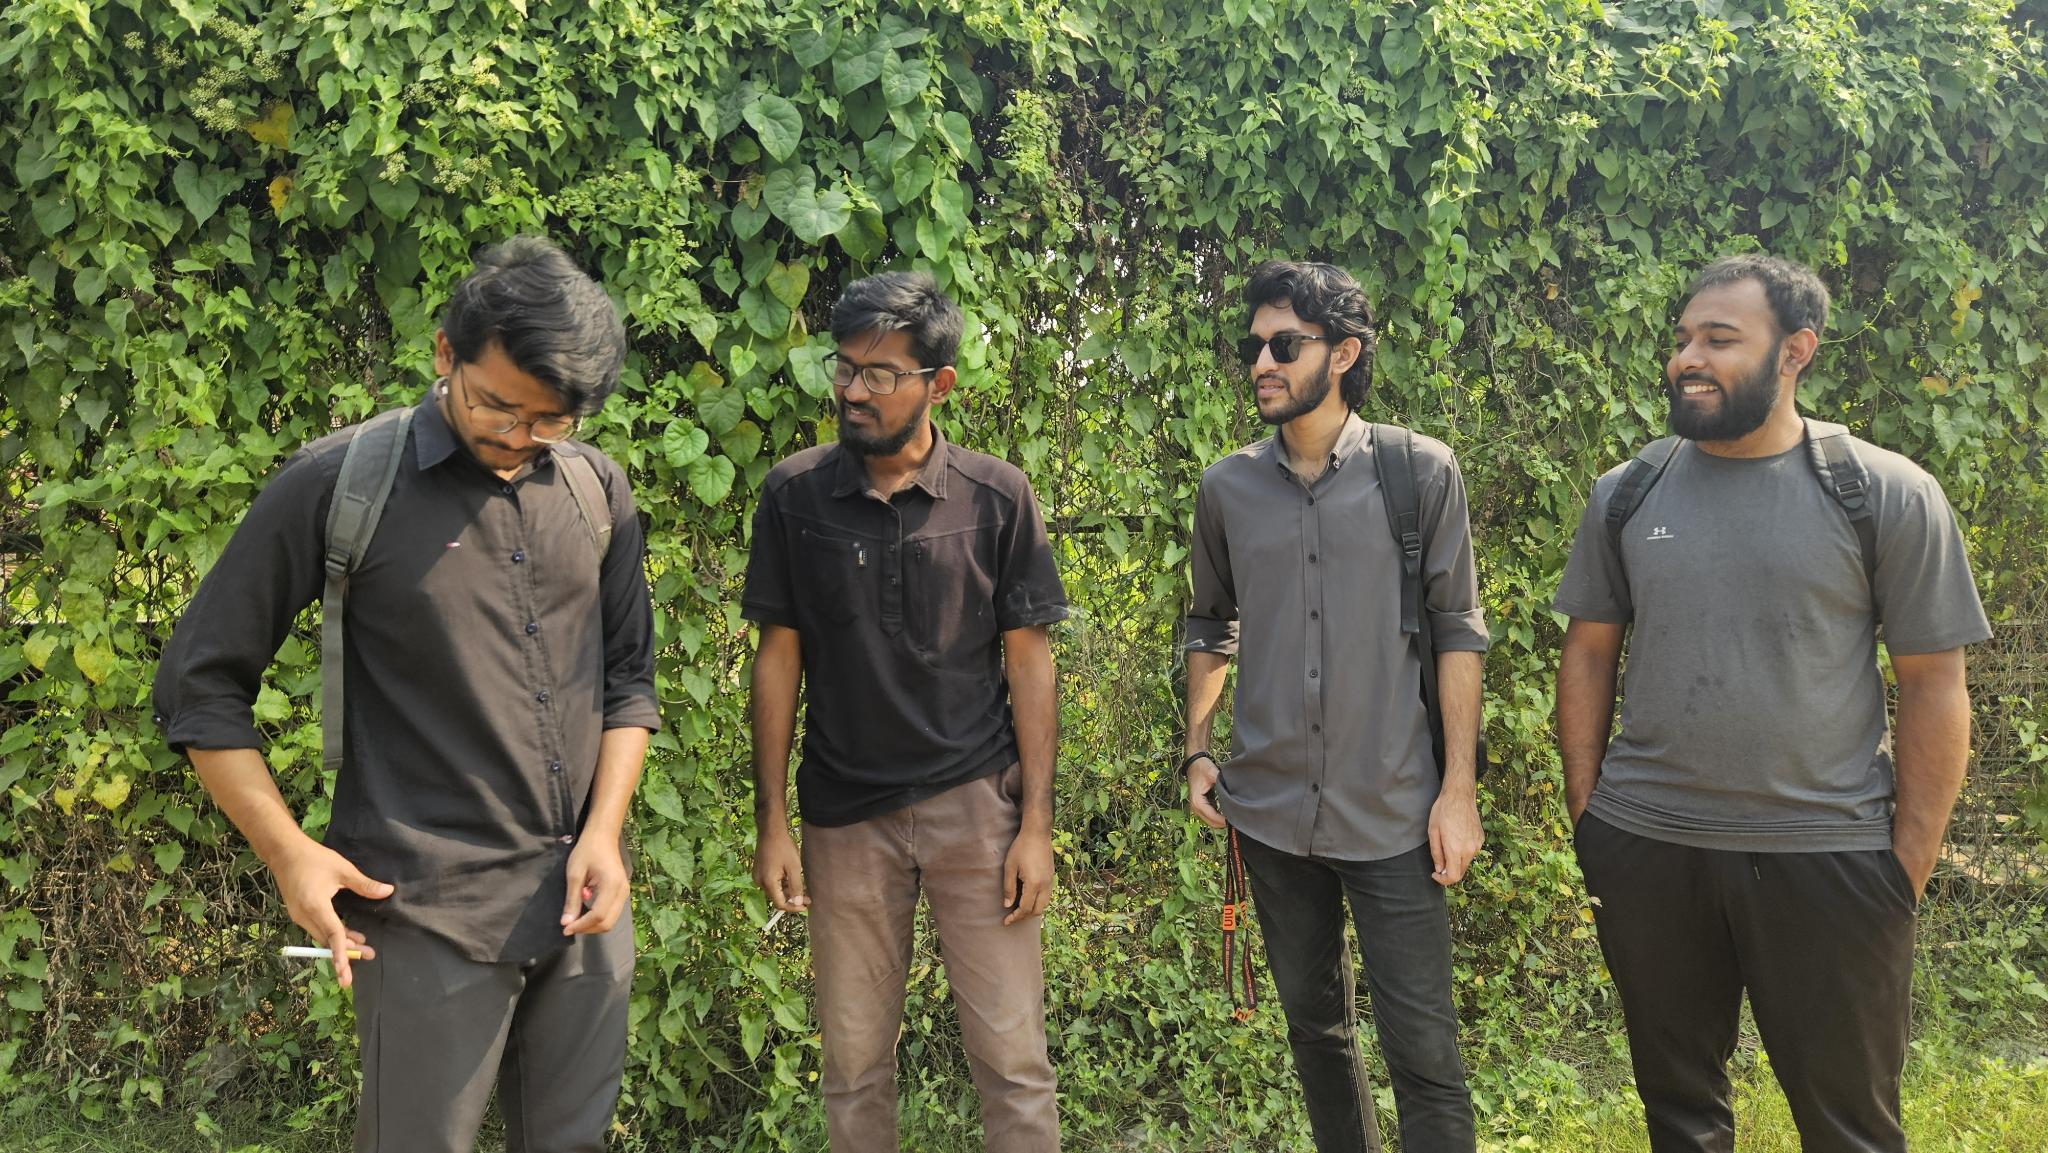cigarette: (280, 943, 364, 963), (761, 907, 786, 934)
nonSmoker: (1549, 255, 1993, 1153), (1183, 262, 1491, 1153)
smoker: (152, 238, 663, 1153), (740, 271, 1068, 1153)
